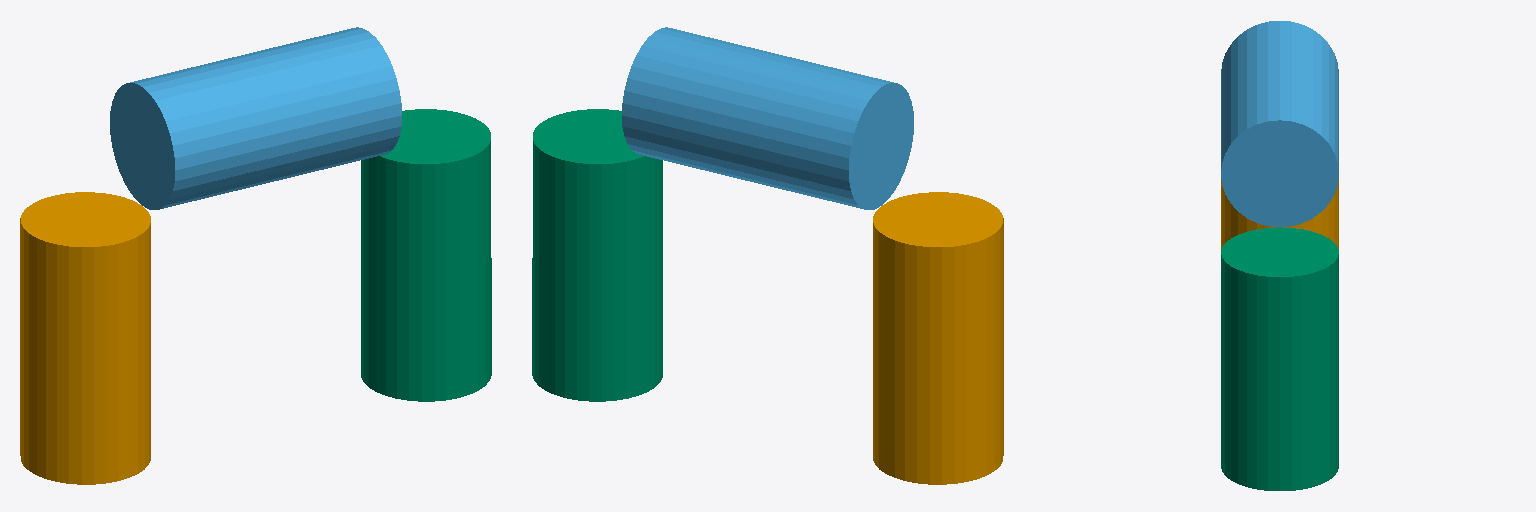
URDF robot description (robotWithDummyLink):
<?xml version="1.0"?>
<robot name="robotWithDummyLink">

  <!-- This robot should have the shape of gate (Π) composed by 3 cylinders -->

  <!-- "real" links -->
  <link name="base_link">
    <visual>
      <geometry>
        <cylinder radius="0.1" length="0.4"/>
      </geometry>
    </visual>
    <collision>
      <geometry>
        <cylinder radius="0.1" length="0.4"/>
      </geometry>
    </collision>
  </link>

  <link name="link_1">
    <visual>
      <geometry>
        <cylinder radius="0.1" length="0.4"/>
      </geometry>
    </visual>
    <collision>
      <geometry>
        <cylinder radius="0.1" length="0.4"/>
      </geometry>
    </collision>
  </link>

  <link name="link_2">
    <visual>
      <geometry>
        <cylinder radius="0.1" length="0.4"/>
      </geometry>
    </visual>
    <collision>
      <geometry>
        <cylinder radius="0.1" length="0.4"/>
      </geometry>
    </collision>
  </link>

  <!-- dummy links -->

  <link name="dummy_link_1"/>

  <link name="dummy_link_2"/>
  <link name="dummy_link_3"/>
  <link name="dummy_link_4"/>

  <!-- joints -->

  <joint name="base_link_to_dummy_link_1" type="fixed">
    <parent link="base_link"/>
    <child link="dummy_link_1"/>
    <origin xyz="0.3 0 0.3" rpy="0 0 0"/>
  </joint>
  <joint name="dummy_link_1_to_link_1" type="fixed">
    <parent link="dummy_link_1"/>
    <child link="link_1"/>
    <origin xyz="0 0 0" rpy="0 1.5708 0"/>
  </joint>

  <joint name="link_1_to_dummy_link_2" type="fixed">
    <parent link="link_1"/>
    <child link="dummy_link_2"/>
    <origin xyz="1 0 0" rpy="0 3.1415 0"/>
  </joint>
  <joint name="dummy_link_2_to_dummy_link_3" type="fixed">
    <parent link="dummy_link_2"/>
    <child link="dummy_link_3"/>
    <origin xyz="1 0 0" rpy="0 3.1415 0"/>
  </joint>
  <joint name="dummy_link_3_to_dummy_link_4" type="fixed">
    <parent link="dummy_link_3"/>
    <child link="dummy_link_4"/>
    <origin xyz="0.15 0 0.15" rpy="0 0.7854 0"/>
  </joint>
  <joint name="dummy_link_4_to_link_2" type="fixed">
    <parent link="dummy_link_4"/>
    <child link="link_2"/>
    <origin xyz="0 0 0.2121" rpy="0 0.7854 0"/>
  </joint>

</robot>

--- Render facts (derived) ---
The picture shows the robot from 3 angles, left to right: view 1: azimuth 30°, elevation 25°; view 2: azimuth 150°, elevation 25°; view 3: azimuth 270°, elevation 25°; orthographic projection.
Robot: robotWithDummyLink — 7 links, 6 joints (6 fixed); root link base_link; default pose: every joint at zero.
Links seen in each view (by area): view 1: base_link, link_1, link_2; view 2: base_link, link_1, link_2; view 3: link_2, link_1, base_link.
Link boxes in pixels (left/top/right/bottom): base_link: left=20, top=192, right=150, bottom=484; link_1: left=110, top=27, right=401, bottom=209; link_2: left=361, top=109, right=491, bottom=401; base_link: left=873, top=192, right=1003, bottom=484; link_1: left=622, top=27, right=913, bottom=209; link_2: left=532, top=109, right=662, bottom=401; link_2: left=1221, top=227, right=1338, bottom=490; link_1: left=1221, top=21, right=1338, bottom=226; base_link: left=1221, top=179, right=1338, bottom=249.
Bounding box of the posed robot: 0.8 × 0.2 × 0.6 m (x, y, z).
Geometry: primitives only (box / cylinder / sphere), no mesh files.